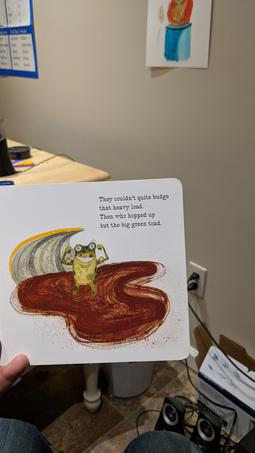text block: (92, 189, 175, 234)
